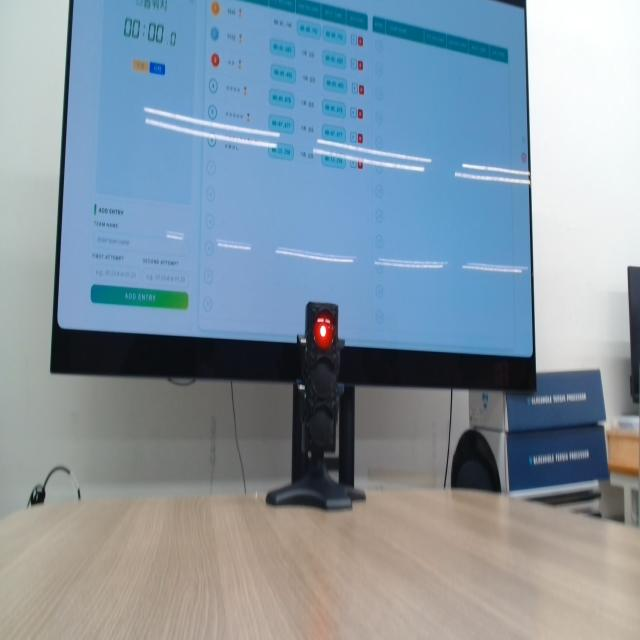red_light: (314, 312, 334, 349)
